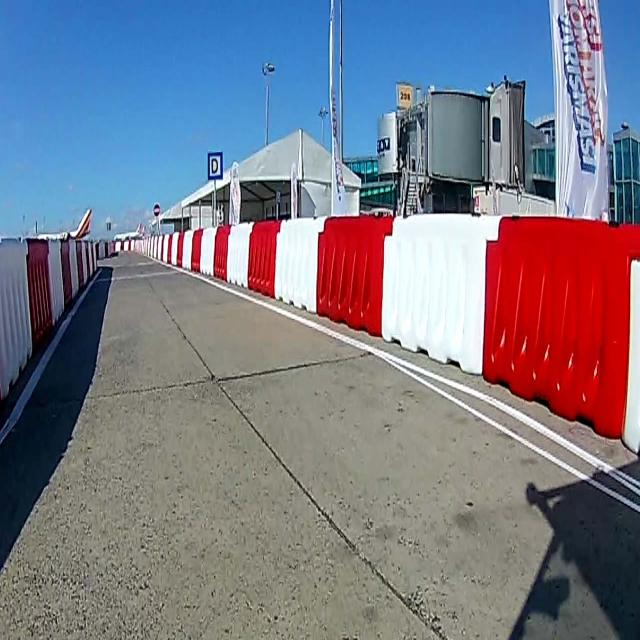durak: (206, 151, 224, 181)
girisyok: (153, 203, 161, 217)
